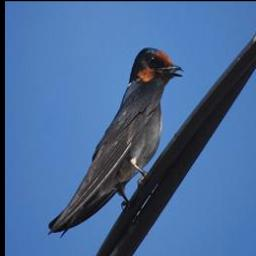Swallow: (46, 46, 182, 233)
